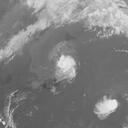cyclone: (55, 54, 78, 85)
